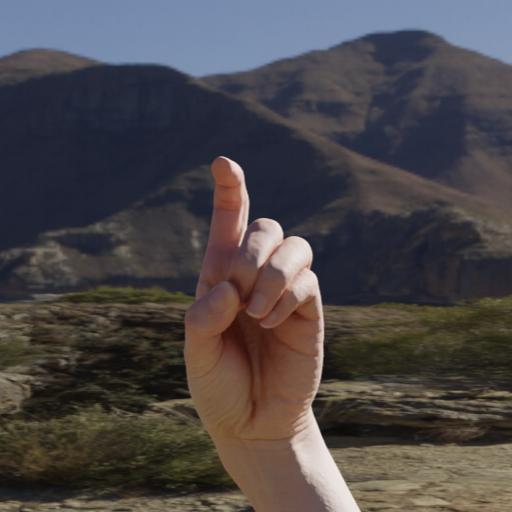X: (180, 144, 332, 438)
